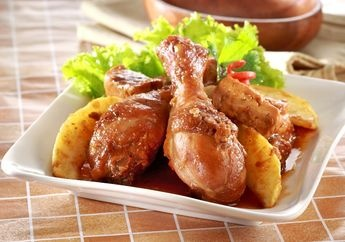ayam_goreng: (147, 35, 253, 202)
